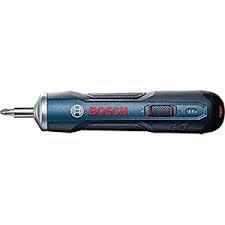screwdriver: (14, 90, 224, 133), (0, 107, 14, 117)
